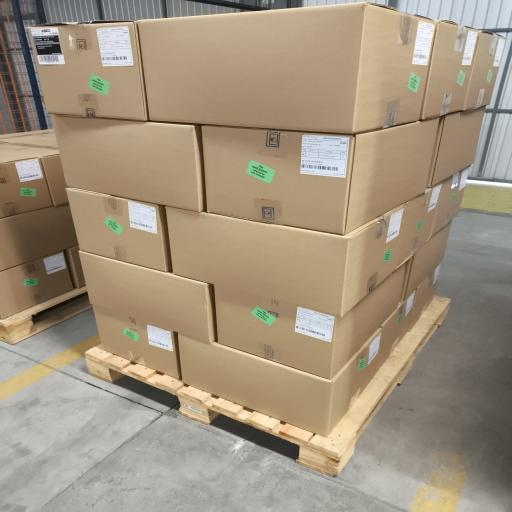pallet: (86, 297, 450, 475), (0, 287, 92, 344)
